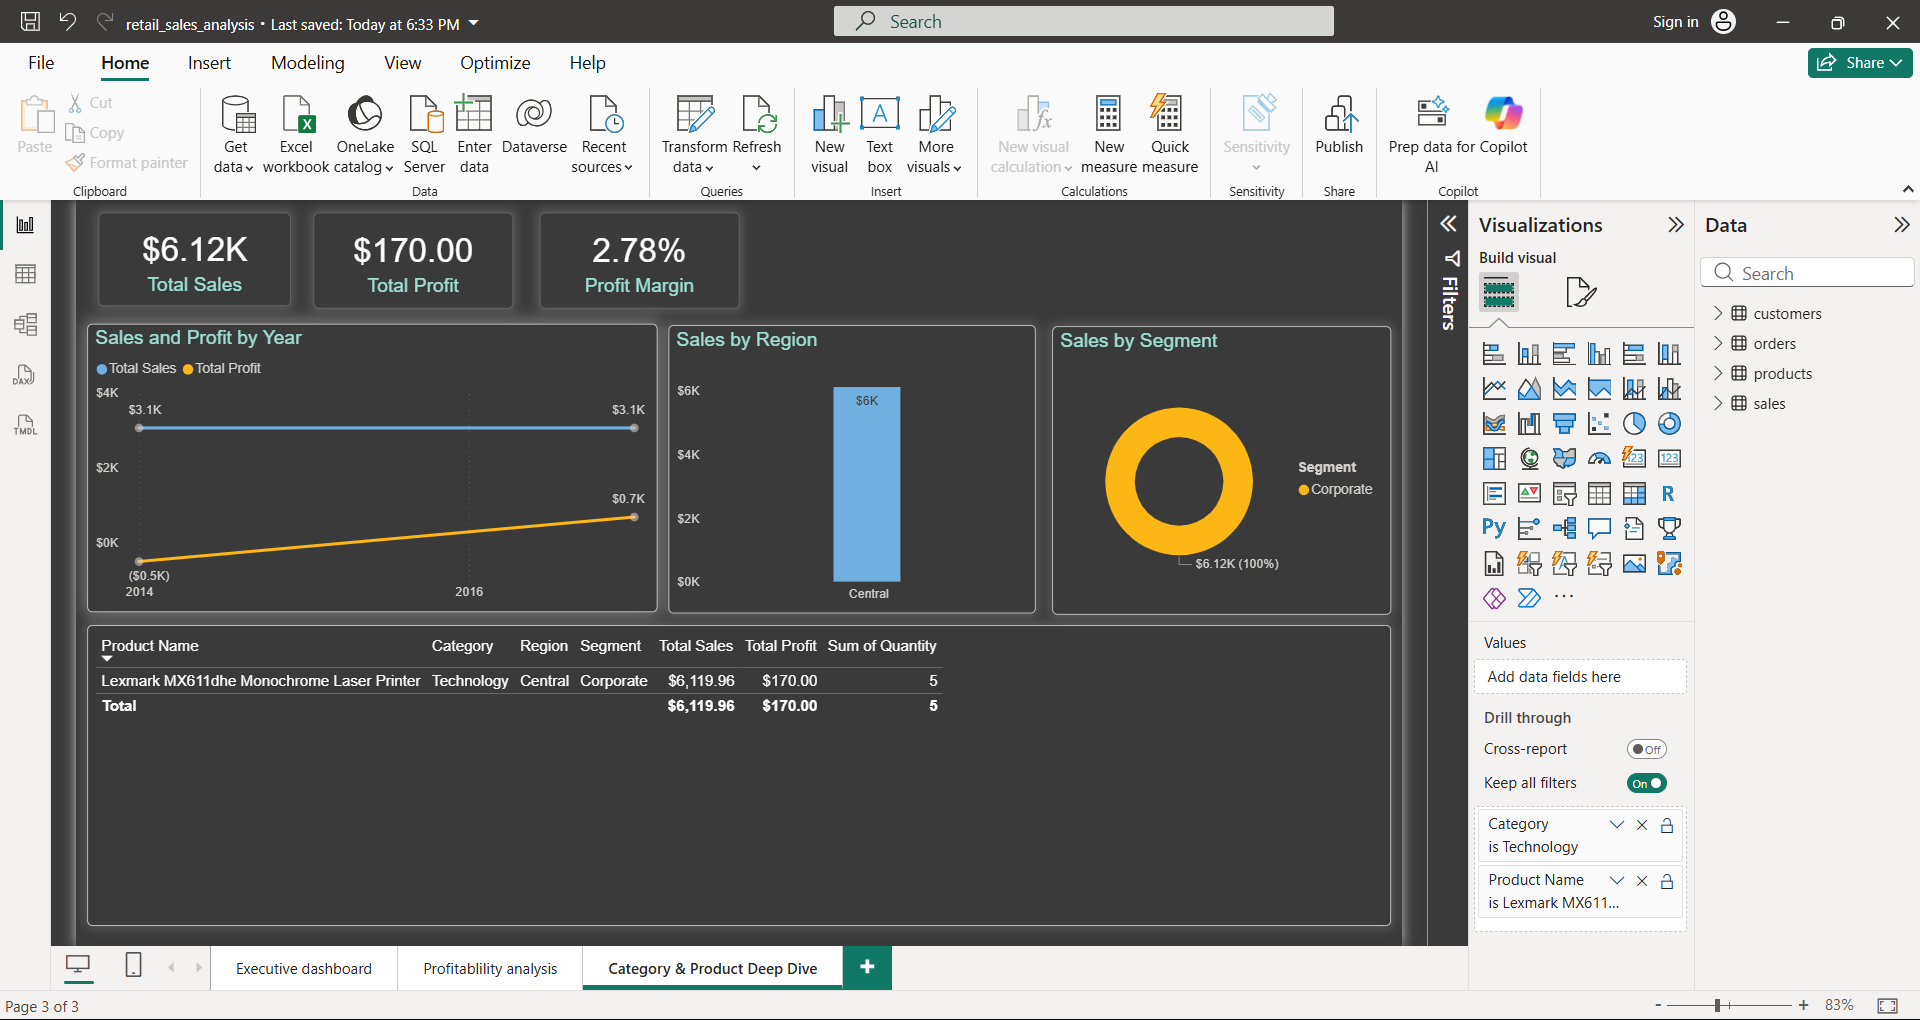

This screenshot's page, from the dashboard's own definition file:
{"tool":"powerbi","page":{"name":"Category & Product Deep Dive","canvas":[1280,720],"ordinal":2},"visuals":[{"type":"card","fields":{"Values":["sales.Total Profit"]},"box":[228.8,12.5,192.5,92.5],"z":0},{"type":"card","fields":{"Values":["sales.Profit Margin"]},"box":[447.5,12.5,192.5,92.5],"z":1000},{"type":"lineChart","title":"Sales and Profit by Year","fields":{"Category":["orders.Order Date.Variation.Date Hierarchy.Year"],"Y":["sales.Total Sales","sales.Total Profit"]},"box":[11.2,120,550,278.8],"z":2000},{"type":"clusteredColumnChart","title":"Sales by Region","fields":{"Category":["orders.Region"],"Y":["sales.Total Sales"]},"box":[571.9,120.6,354.7,278.7],"z":3000},{"type":"donutChart","title":"Sales by Segment","fields":{"Category":["customers.Segment"],"Y":["sales.Total Sales"]},"box":[942.2,121.9,326.9,278.7],"z":4000},{"type":"tableEx","fields":{"Values":["products.Product Name","products.Category","orders.Region","customers.Segment","sales.Total Sales","sales.Total Profit","Sum(sales.Quantity)"]},"box":[11.2,410,1258.8,290],"z":5000},{"type":"card","fields":{"Values":["sales.Total Sales"]},"box":[21.7,12.1,185.8,90.5],"z":6000}]}

Visuals, with their boxes on the page's 1280x720 design canvas (x1, y1, x2, y2). These are canvas units, not pixel positions in the 1920x1020 screenshot, which may show the page scaled, cropped or inside an application window:
card - sales.Total Profit: box=[229, 12, 421, 105]
card - sales.Profit Margin: box=[448, 12, 640, 105]
"Sales and Profit by Year" lineChart: box=[11, 120, 561, 399]
"Sales by Region" clusteredColumnChart: box=[572, 121, 927, 399]
"Sales by Segment" donutChart: box=[942, 122, 1269, 401]
tableEx - products.Product Name x products.Category: box=[11, 410, 1270, 700]
card - sales.Total Sales: box=[22, 12, 208, 103]
